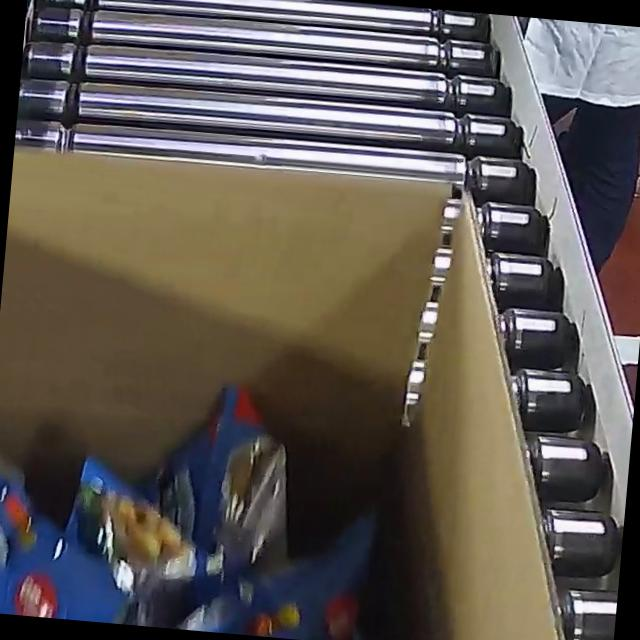paprika: (0, 361, 447, 640)
